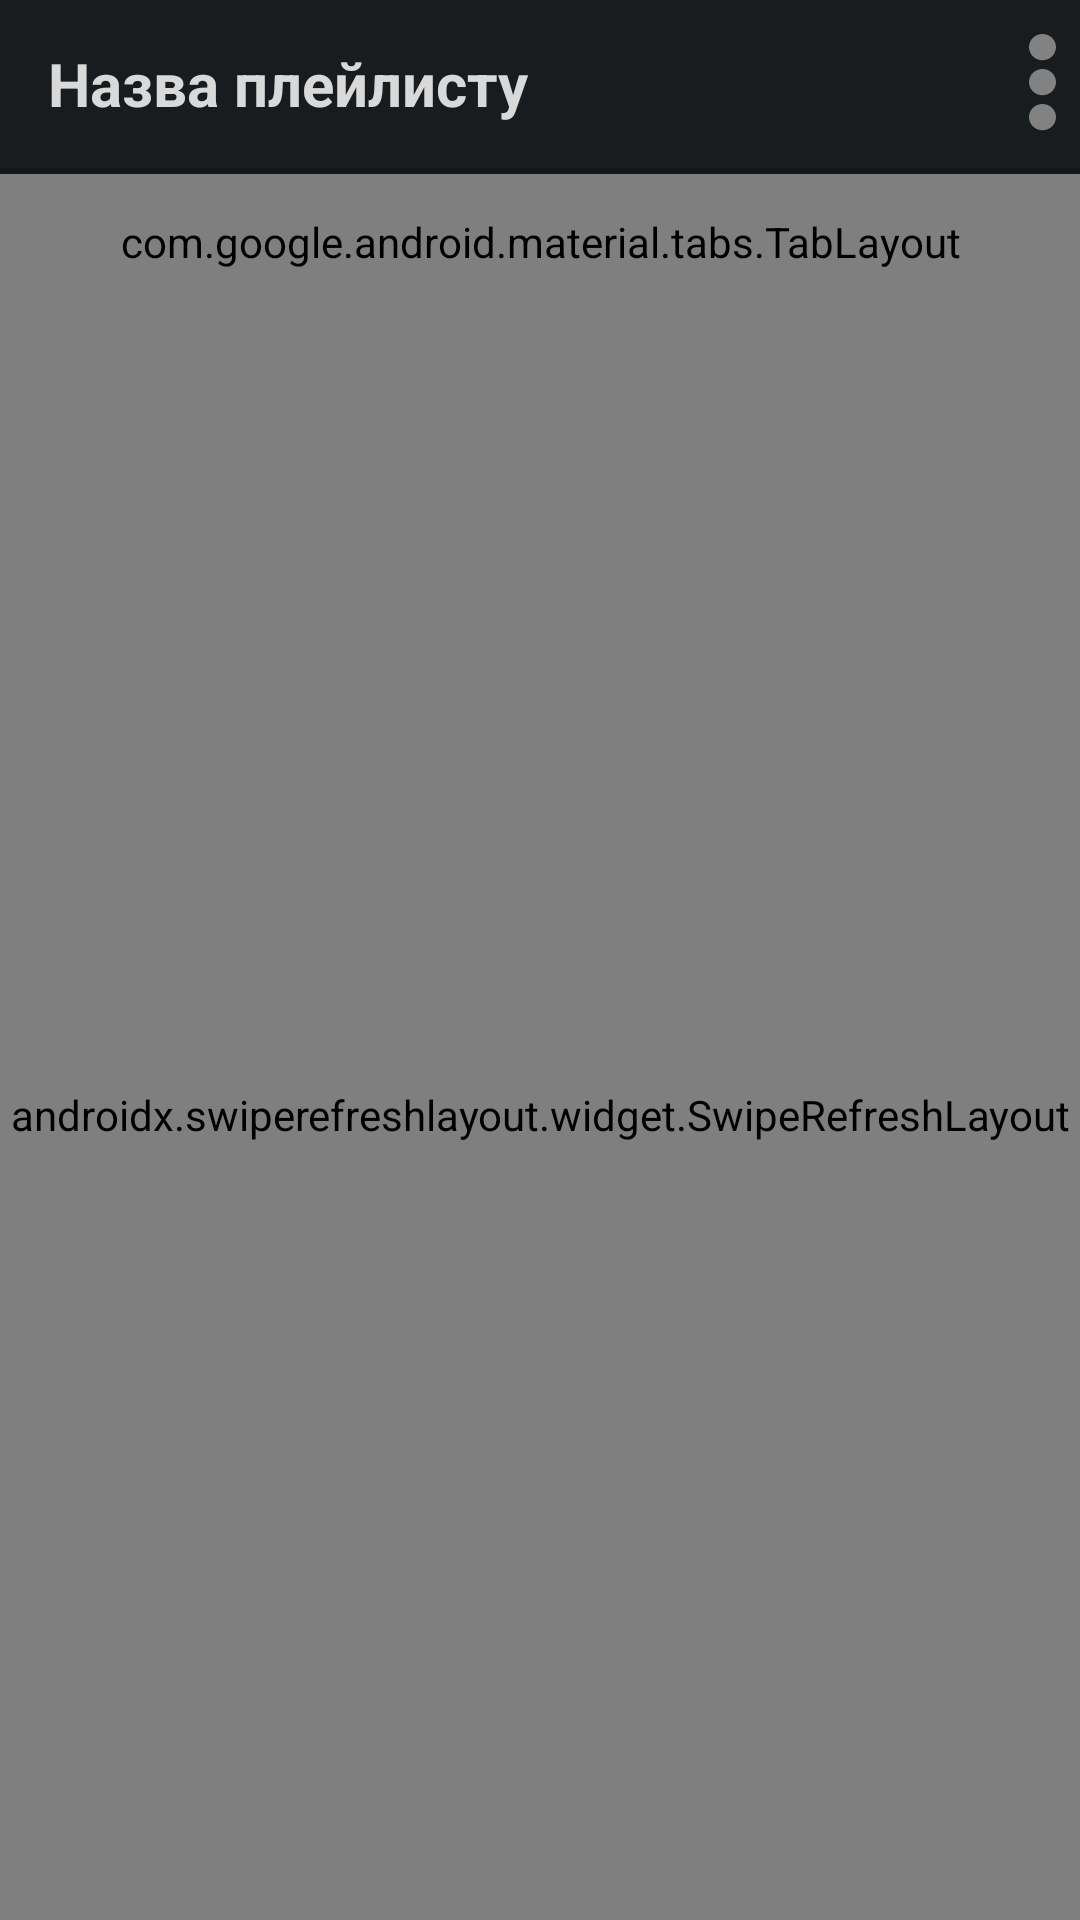

Named icons in this screenshot (1080w x 1920h) and their bounding boxes, (x1, y1, x2, y2):
three dots: (1029, 34, 1056, 131)
